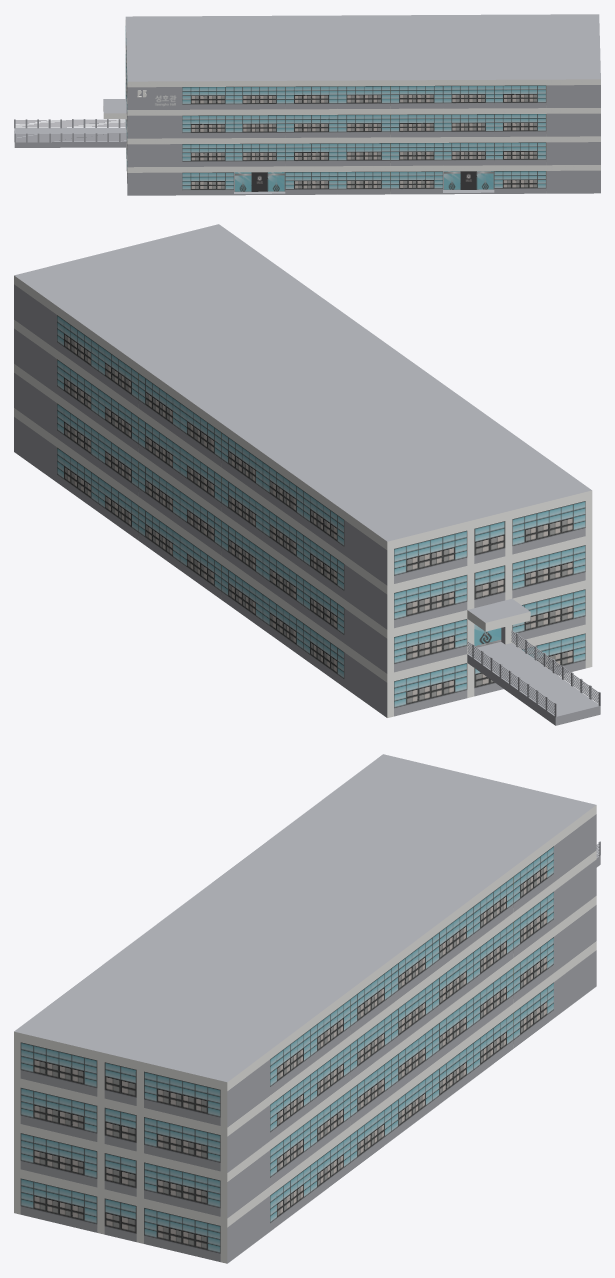
Rendered from building_seongho.fbx.
3 views of the same model, one above another, from view 1: azimuth 30°, elevation 25°; view 2: azimuth 150°, elevation 25°; view 3: azimuth 270°, elevation 25° (orthographic). The views are drawn at different scales.
Parts seen in each view (by area): view 1: building_seongho; view 2: building_seongho; view 3: building_seongho.
Part boxes in pixels (left/top/right/bottom): building_seongho: left=14, top=14, right=600, bottom=195; building_seongho: left=14, top=224, right=600, bottom=725; building_seongho: left=14, top=754, right=600, bottom=1263.
Bounding box in the file's own units: 3.97 × 0.8977 × 2.63.
1 material, 1 textured.
